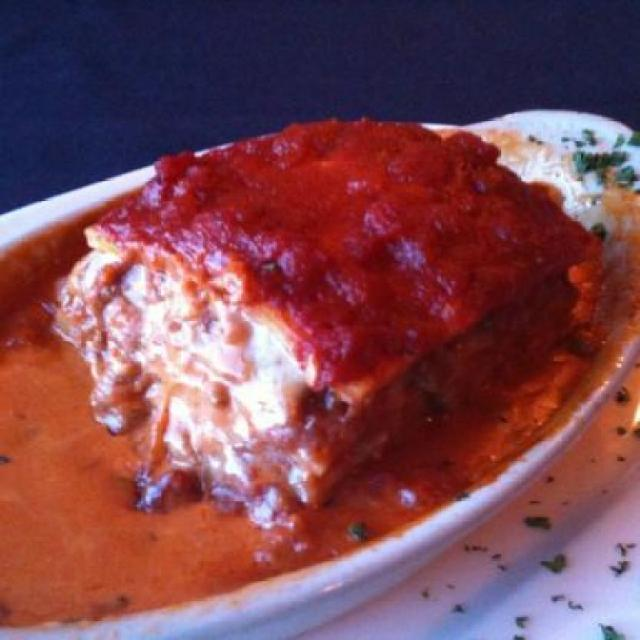Lasagna: (39, 116, 530, 530)
